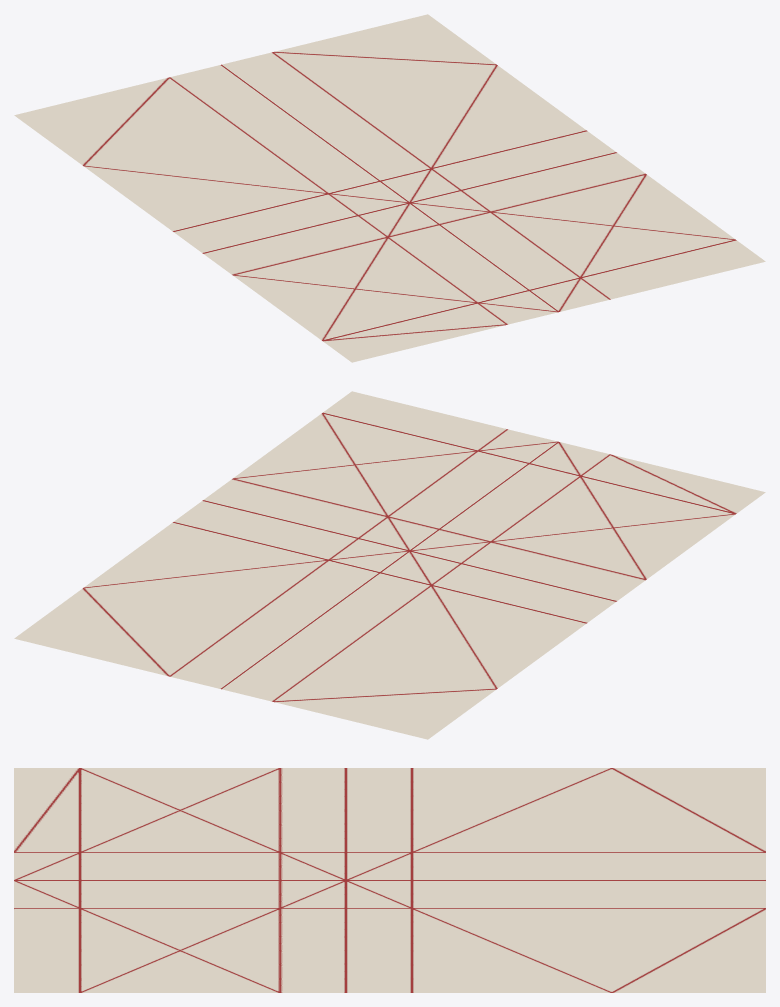
Rendered from paper_plane_coarse.obj.
3 views of the same model, one above another, from view 1: azimuth 30°, elevation 25°; view 2: azimuth 150°, elevation 25°; view 3: azimuth 270°, elevation 25° (orthographic). The views are drawn at different scales.
Size of the model in its own units: 2 by 0 by 2.83.
1 material, 1 textured.
